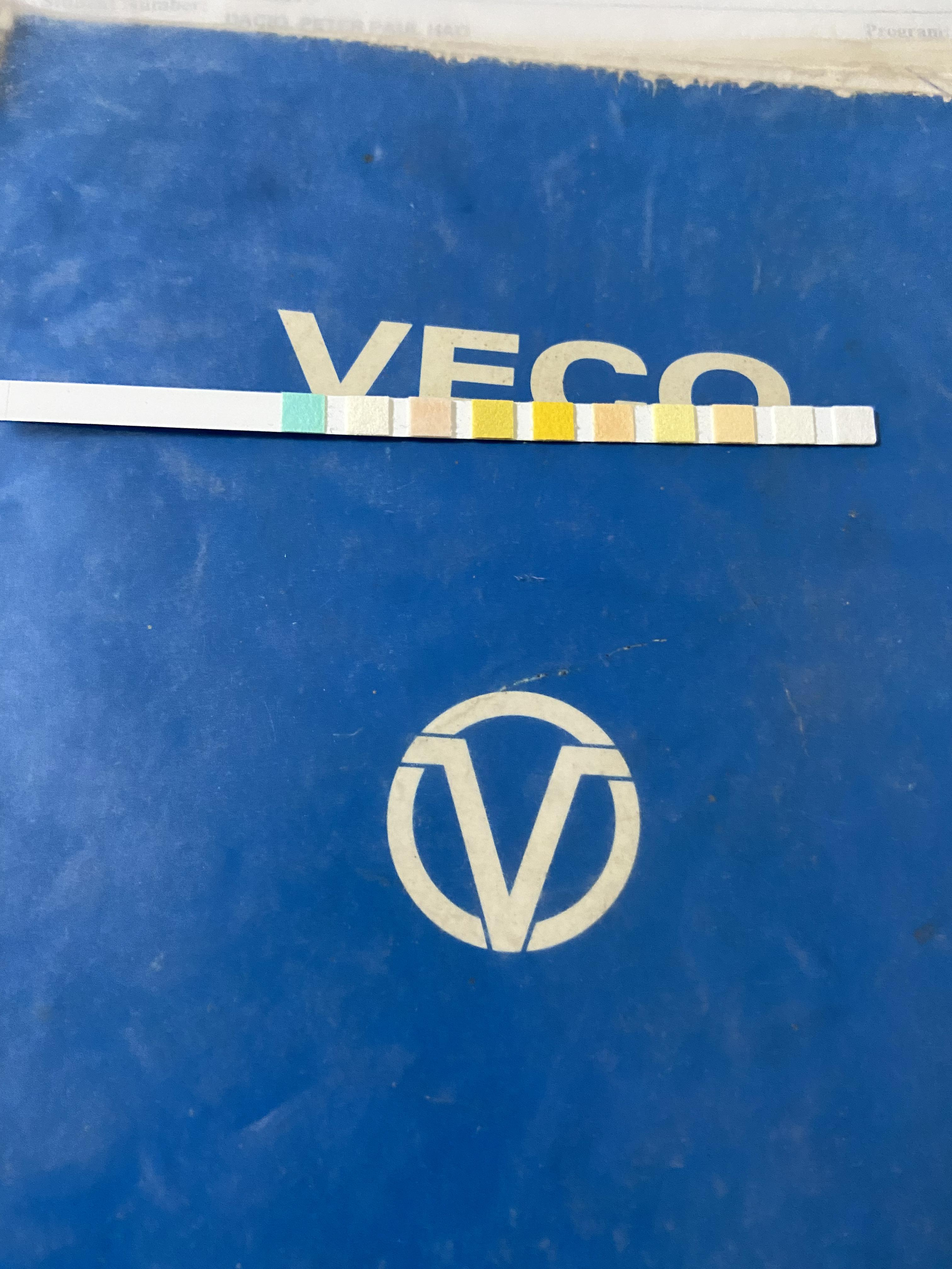Bilirubin: (351, 400, 387, 434)
Blood: (534, 405, 573, 439)
Glucose: (284, 396, 323, 430)
Ketone: (412, 400, 449, 435)
Leukocytes: (837, 409, 872, 443)
Nitrite: (777, 410, 812, 443)
Protein: (658, 408, 692, 441)
SpGravity: (476, 403, 512, 436)
Urobilinogen: (717, 407, 753, 442)
pH: (598, 407, 631, 440)
strip: (0, 380, 878, 446)
